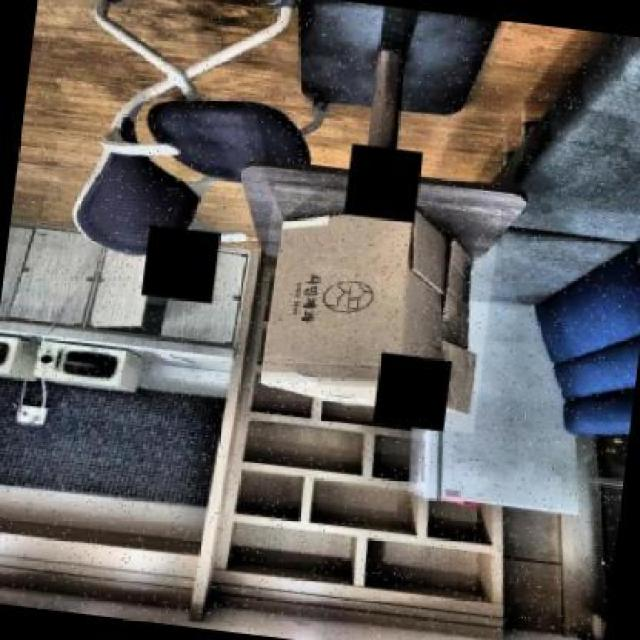box: (247, 182, 501, 432)
